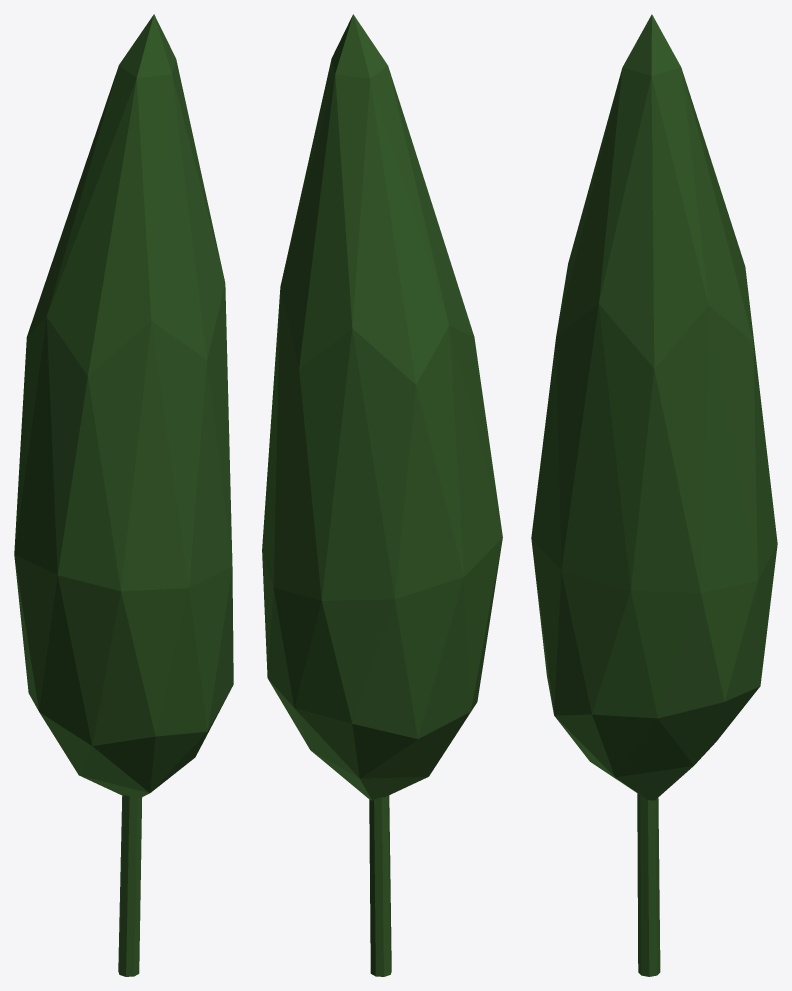
The model's file is Poplar1.FBX.
3 renders of one model, left to right at view 1: azimuth 30°, elevation 25°; view 2: azimuth 150°, elevation 25°; view 3: azimuth 270°, elevation 25°, orthographic. The views are drawn at different scales.
Parts seen in each view (by area): view 1: Poplar1; view 2: Poplar1; view 3: Poplar1.
Boxes of the visible parts, left/top/right/bottom form: Poplar1: left=14, top=14, right=233, bottom=976; Poplar1: left=262, top=14, right=502, bottom=976; Poplar1: left=531, top=14, right=777, bottom=976.
Size of what is drawn, in the model's own units: 179 by 194 by 845.
